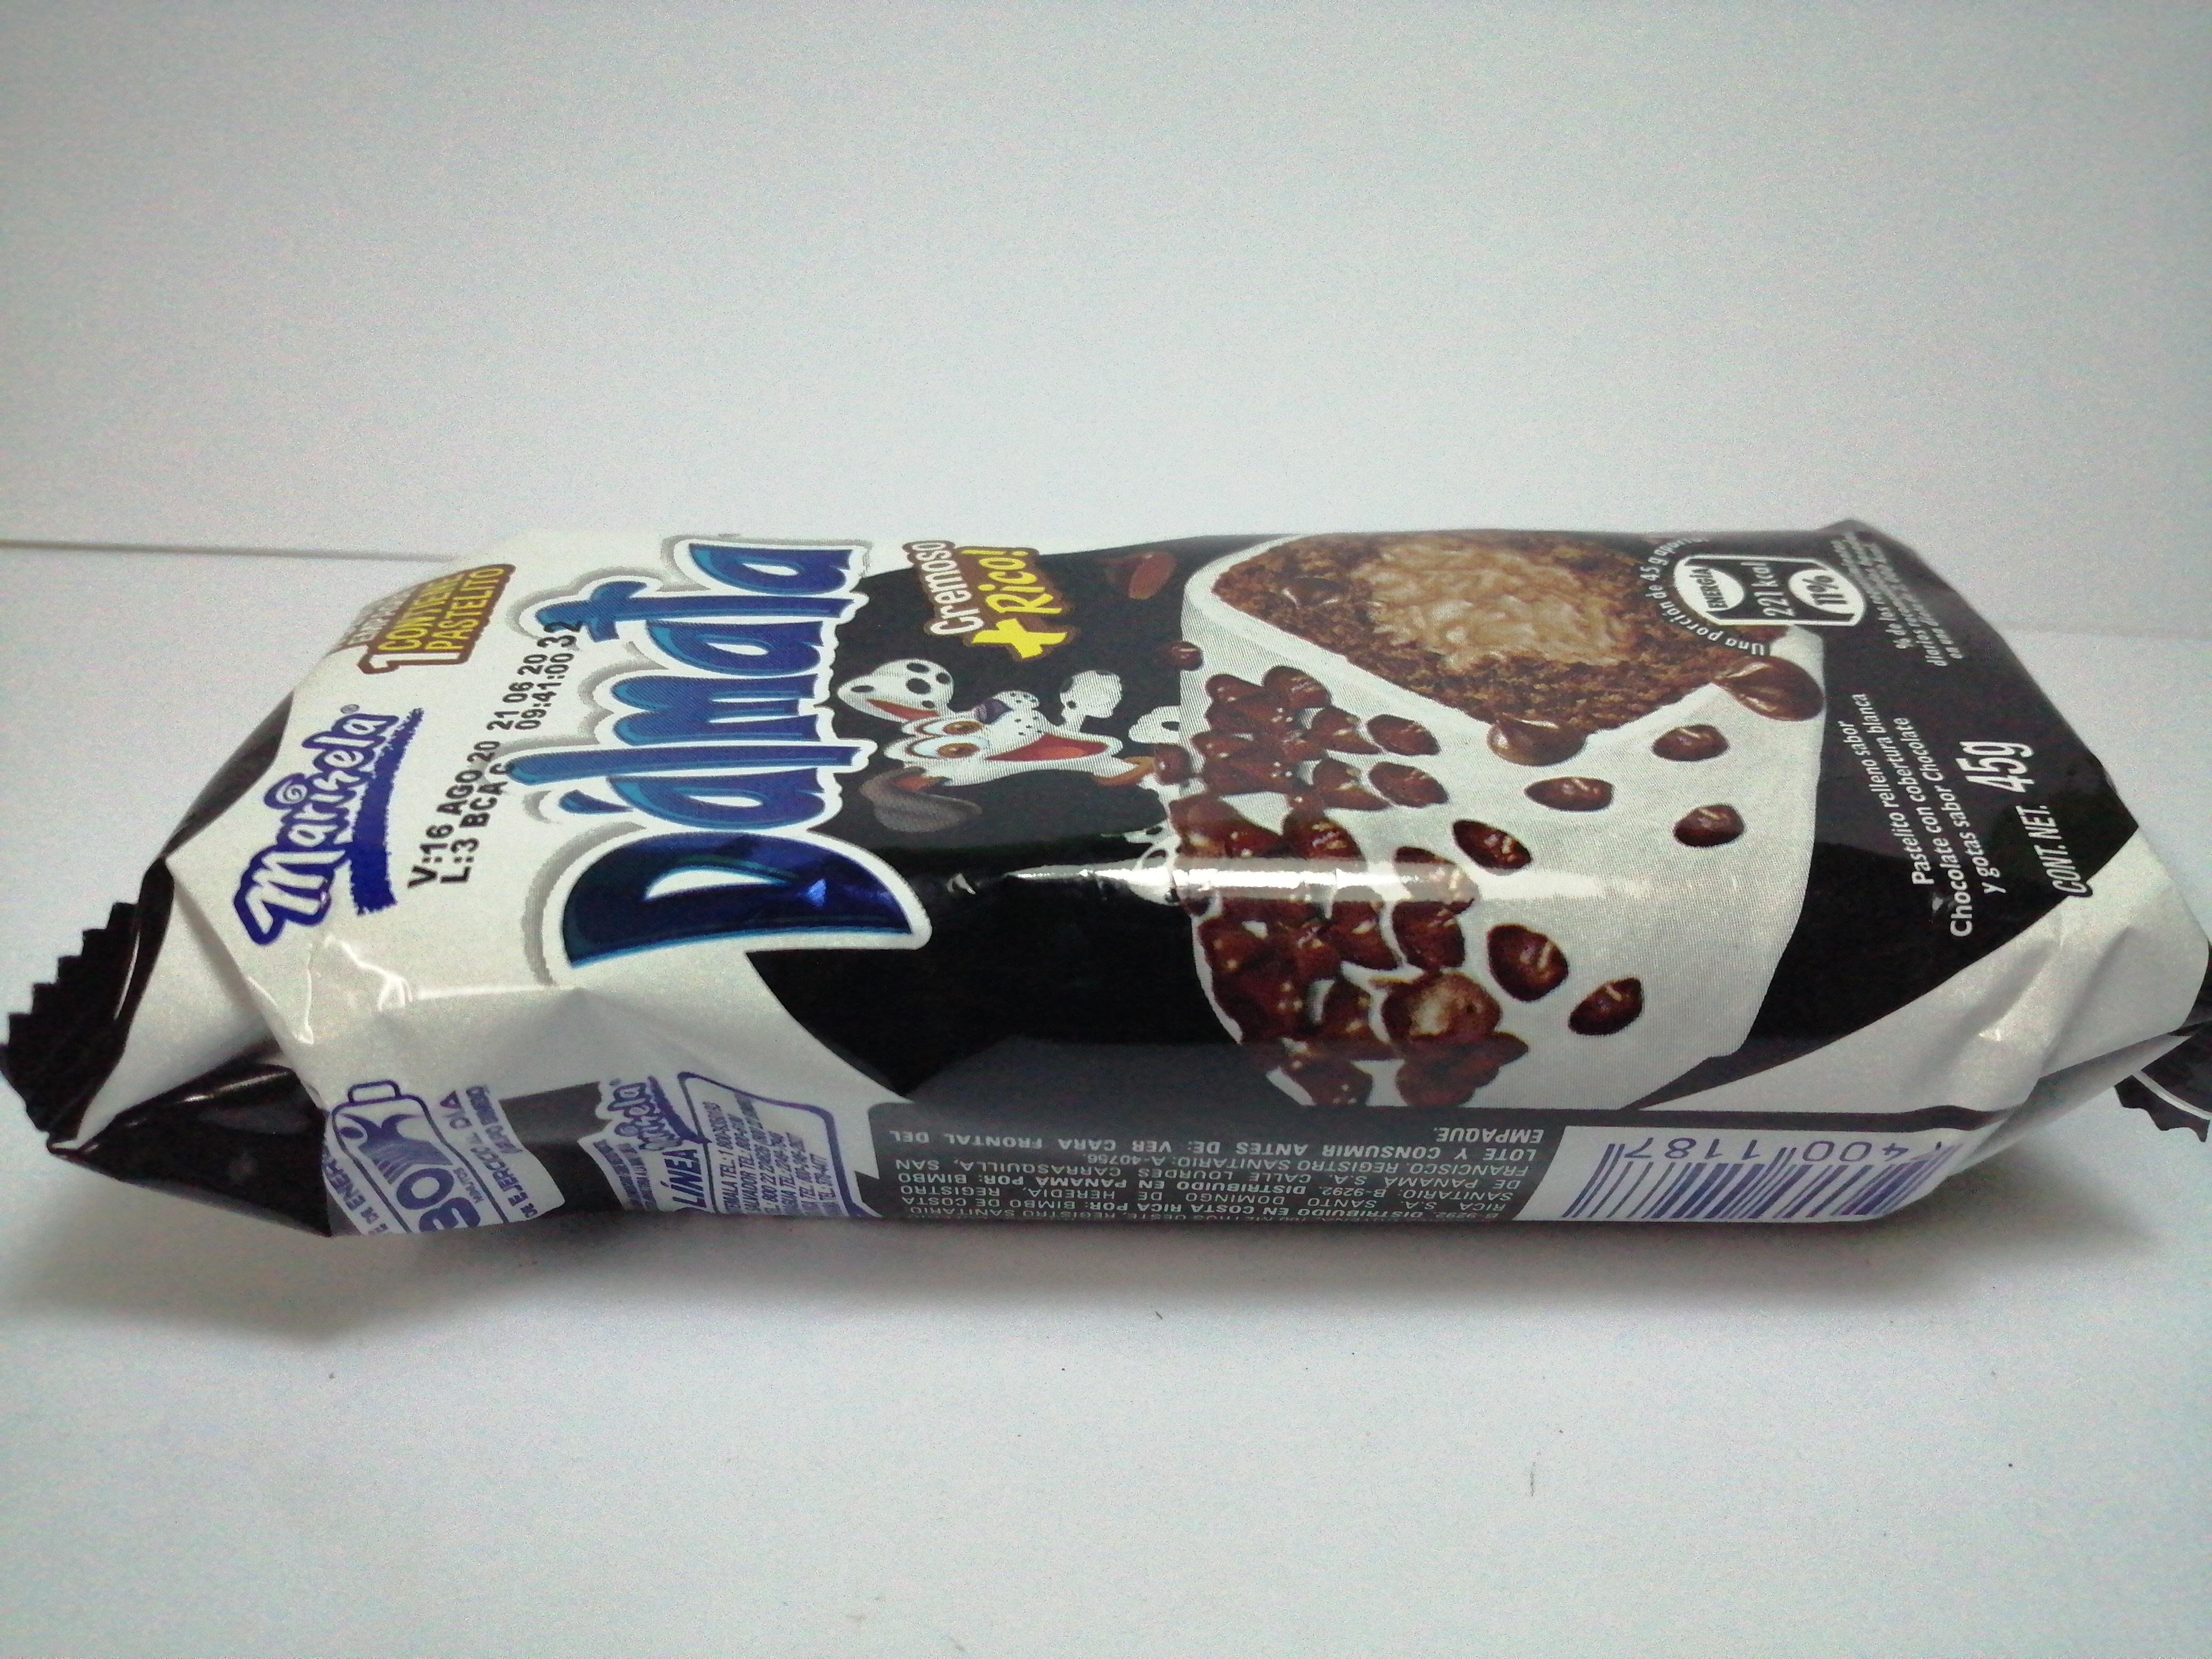dalmata: (2, 498, 2212, 1291)
